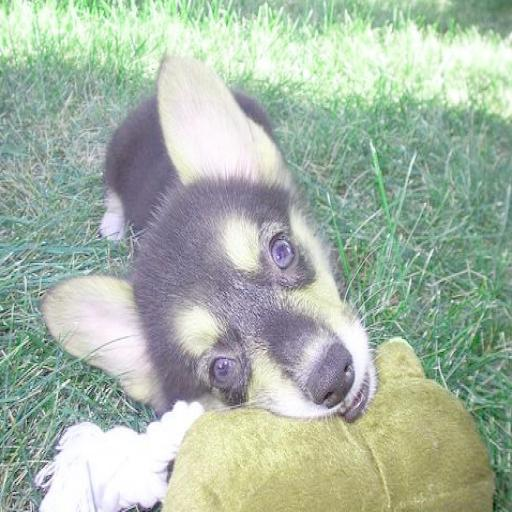dog_face: (60, 59, 355, 406)
